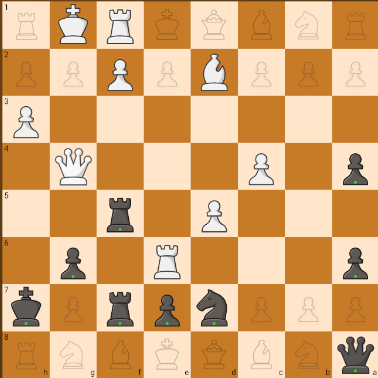bk: (3, 284, 48, 330)
bn: (194, 289, 234, 328)
bp: (333, 241, 375, 283), (54, 240, 94, 282), (146, 287, 185, 329), (334, 147, 374, 187)
bq: (336, 333, 375, 377)
br: (100, 191, 141, 235), (100, 290, 138, 330)
wb: (196, 49, 235, 95)
wk: (52, 1, 96, 48)
wp: (4, 98, 44, 142), (194, 196, 231, 235), (244, 150, 280, 188), (103, 56, 140, 92)
wq: (52, 147, 95, 189)
wr: (149, 238, 187, 283), (100, 6, 140, 48)
